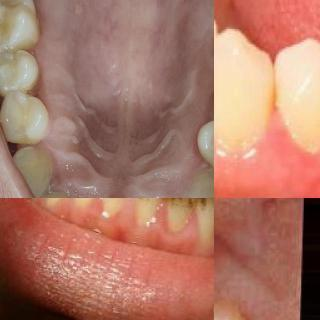plaque: (29, 146, 58, 198), (206, 74, 214, 130), (43, 189, 82, 198)
stains: (195, 198, 214, 241), (164, 198, 194, 212), (102, 198, 134, 206)
